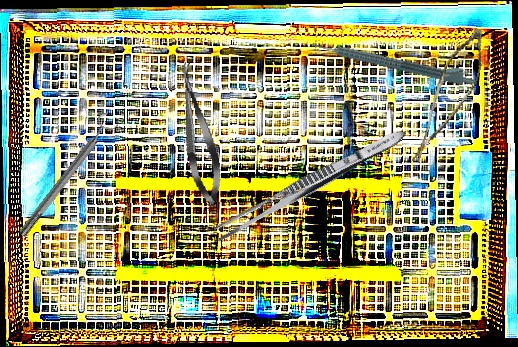Dressing Forceps: (210, 123, 410, 246)
Fixation Ring: (11, 109, 122, 242)
Handpiece: (313, 33, 477, 88)
Micro Scissor: (410, 20, 491, 177), (169, 58, 228, 210)
